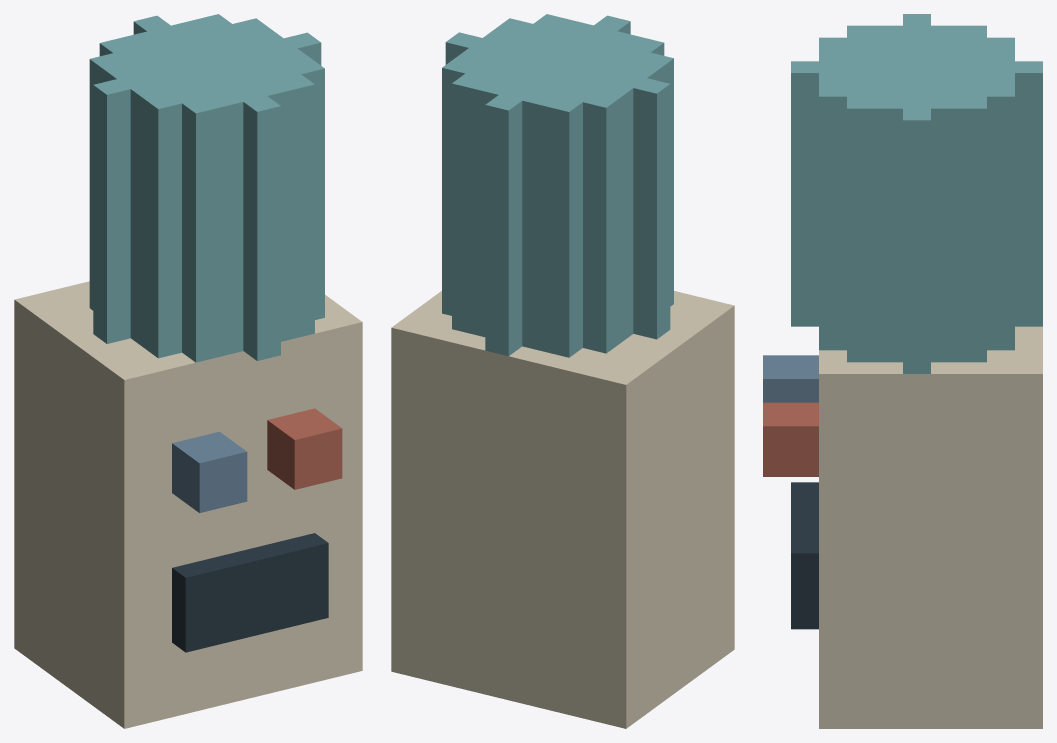
File: sports-13.glb
3 renders of one model, left to right at view 1: azimuth 30°, elevation 25°; view 2: azimuth 150°, elevation 25°; view 3: azimuth 270°, elevation 25°, orthographic. The views are drawn at different scales.
Visible parts, largest first — view 1: Water cooler; view 2: Water cooler; view 3: Water cooler.
Boxes of the visible parts, x1=… form: Water cooler: x1=14, y1=14, x2=362, y2=728; Water cooler: x1=391, y1=14, x2=734, y2=728; Water cooler: x1=763, y1=14, x2=1042, y2=728.
Size of the model in its own units: 0.8 by 1.92 by 0.8.
